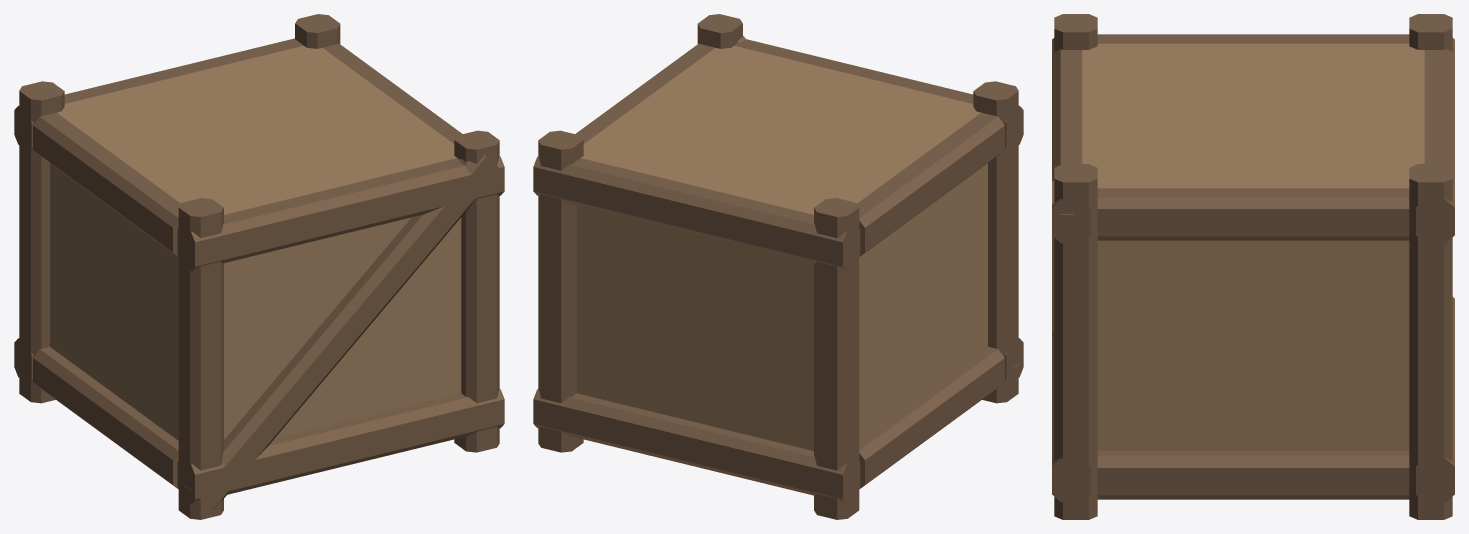
The model's file is crate.glb.
The picture shows the model from 3 angles, left to right: view 1: azimuth 30°, elevation 25°; view 2: azimuth 150°, elevation 25°; view 3: azimuth 270°, elevation 25°; orthographic projection. The views are drawn at different scales.
Parts seen in each view (by area): view 1: crate; view 2: crate; view 3: crate.
Boxes of the visible parts, box(x1,y1,x2,y2) form: crate: box(14, 14, 504, 519); crate: box(533, 14, 1023, 519); crate: box(1052, 14, 1454, 519).
Bounding box in the file's own units: 0.93 × 0.86 × 0.93.
